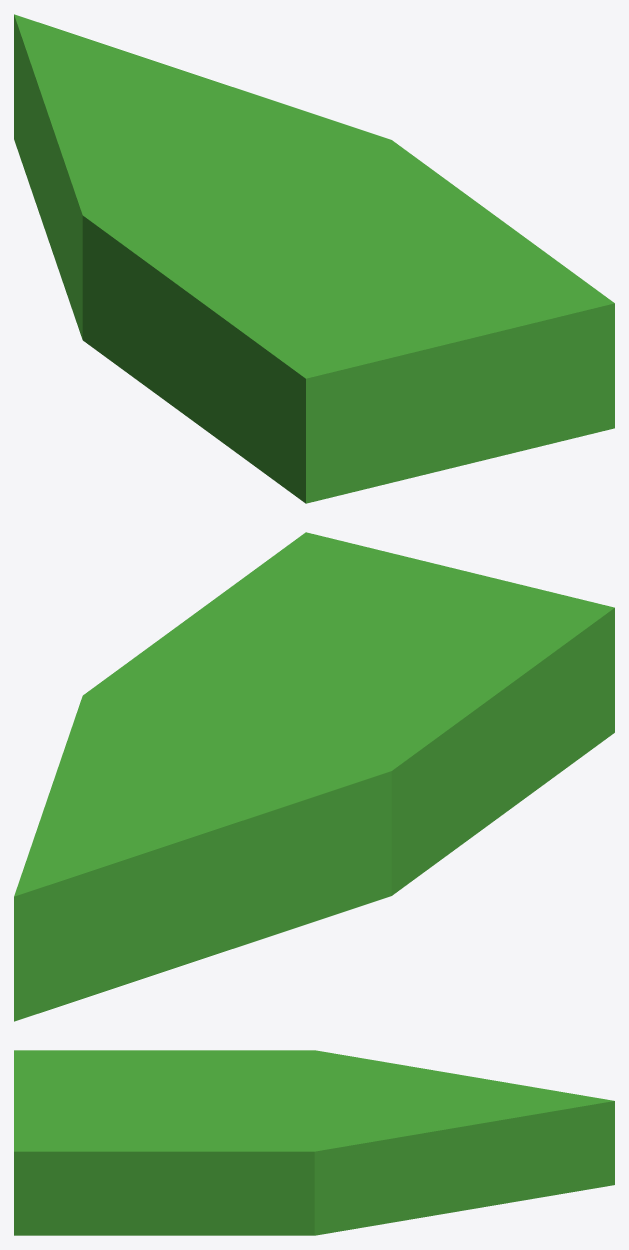
File: player.glb
3 renders of one model, top to bottom at view 1: azimuth 30°, elevation 25°; view 2: azimuth 150°, elevation 25°; view 3: azimuth 270°, elevation 25°, orthographic. The views are drawn at different scales.
Parts seen in each view (by area): view 1: Player; view 2: Player; view 3: Player.
Boxes of the visible parts, box(x1,y1,x2,y2) form: Player: box(14, 14, 614, 503); Player: box(14, 532, 614, 1021); Player: box(14, 1050, 614, 1235).
Bounding box in the file's own units: 1.6 × 0.6179 × 4.
